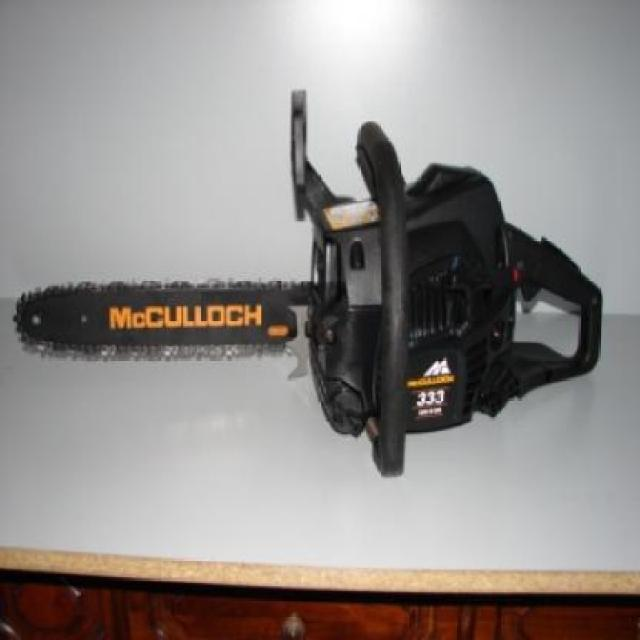Chainsaw: (4, 81, 604, 482)
